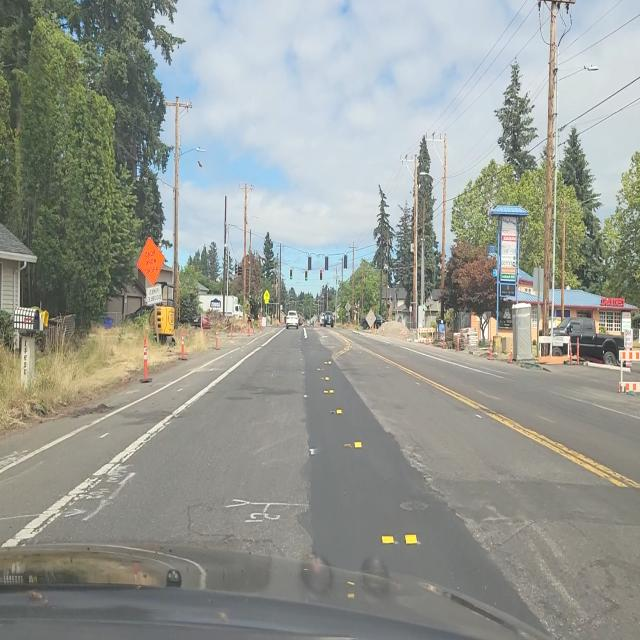car: (546, 316, 627, 367), (354, 312, 380, 330), (179, 312, 202, 330), (320, 311, 338, 328), (285, 311, 299, 330), (373, 314, 385, 329)
crosswalk-sign: (263, 289, 270, 303)
delineator: (141, 333, 154, 382), (178, 325, 188, 360), (214, 324, 220, 350), (230, 320, 234, 341), (489, 341, 493, 360), (441, 334, 446, 349), (247, 317, 251, 335), (251, 318, 255, 335), (403, 325, 407, 340), (258, 317, 262, 331), (381, 325, 386, 336), (456, 336, 459, 351), (374, 324, 378, 334)
